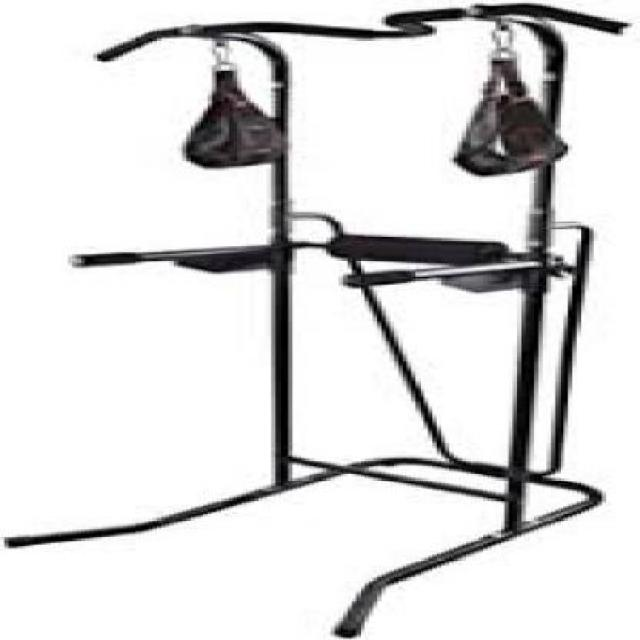chinning dipping: (5, 0, 626, 634)
